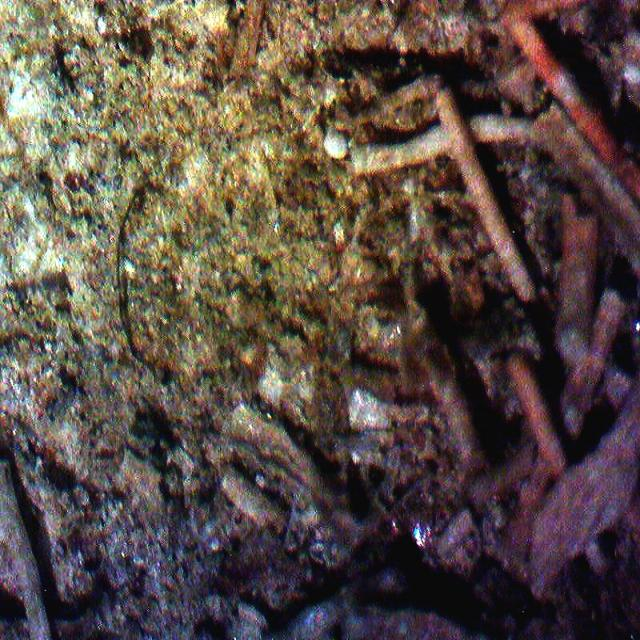microplastic: (116, 189, 156, 383)
